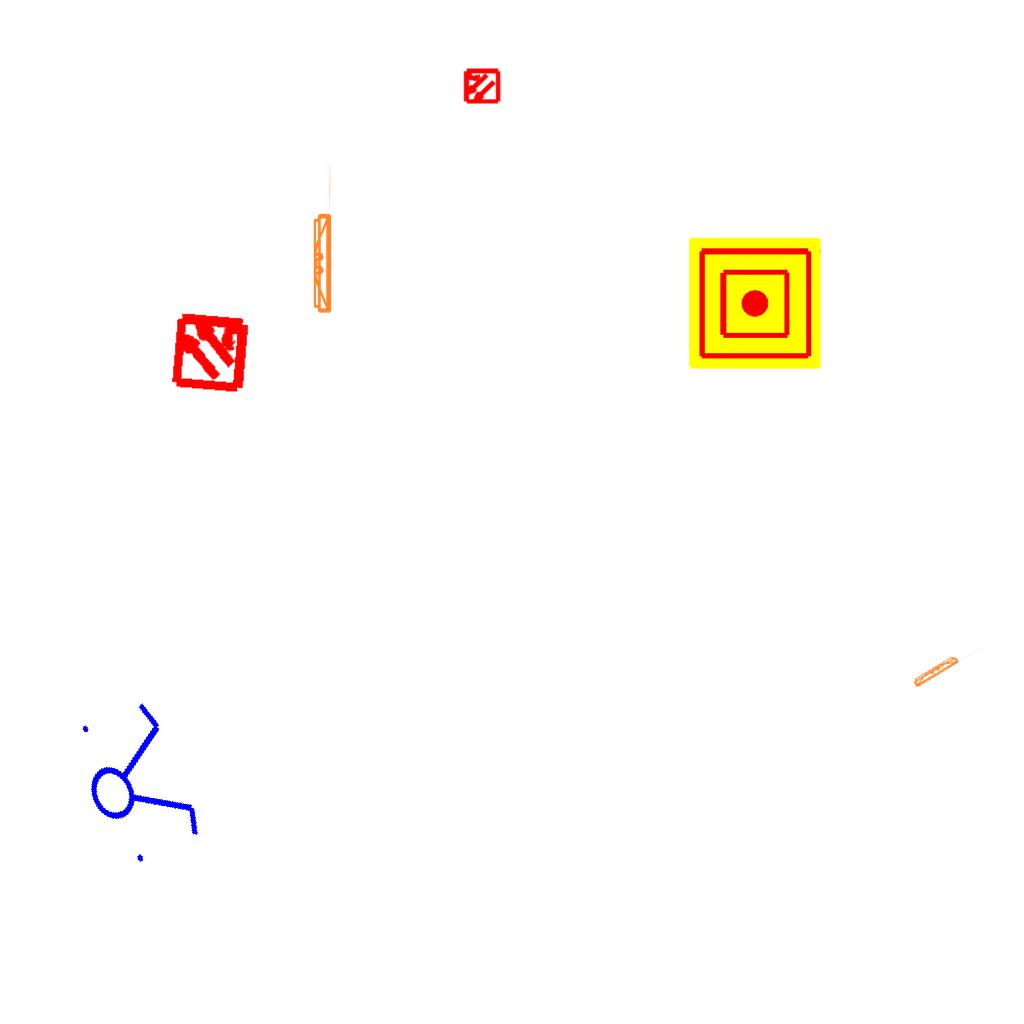NAM-Nichtautomatischer_Melder: (689, 237, 821, 369)
OT_Multisensormelder_(Kombination_RMO_WMD): (149, 289, 272, 412), (453, 58, 509, 114)
Serienschalter: (58, 685, 214, 879)
Sicherheitsleuchte_Wandeinbau: (309, 159, 334, 318), (909, 639, 983, 690)
